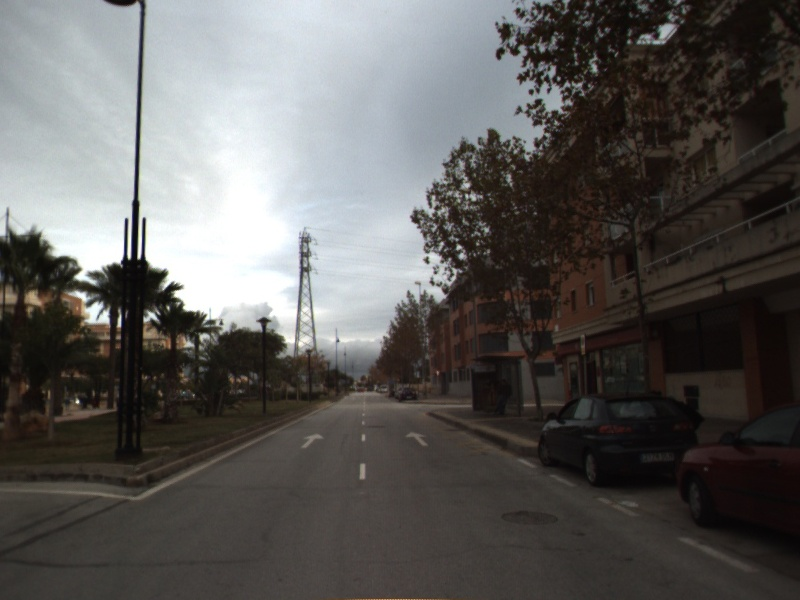STRAIGHT: (403, 429, 431, 448), (299, 431, 326, 450)
